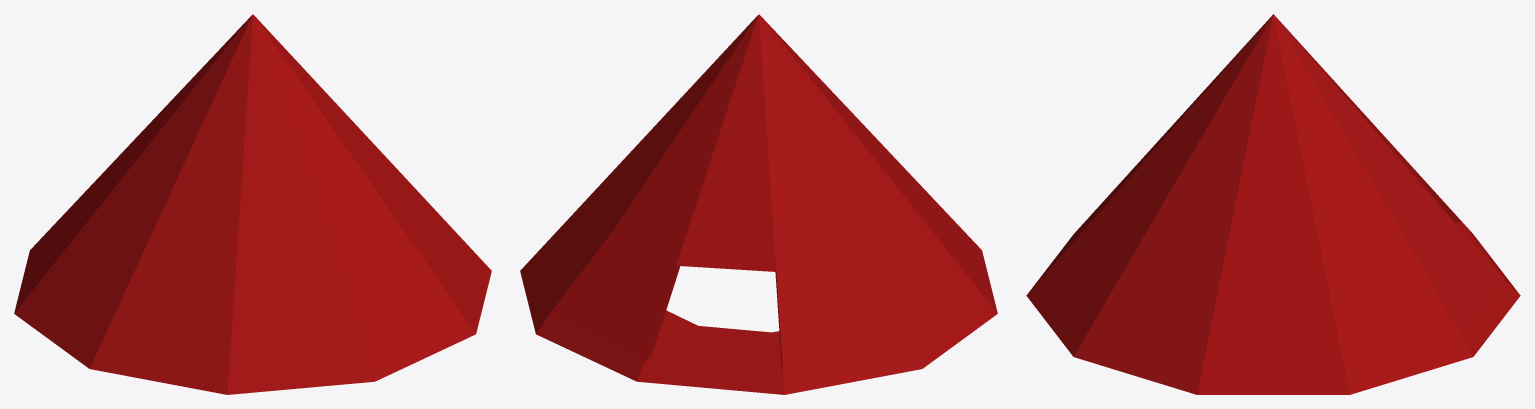
File: CeilingForTower.fbx
3 renders of one model, left to right at view 1: azimuth 30°, elevation 25°; view 2: azimuth 150°, elevation 25°; view 3: azimuth 270°, elevation 25°, orthographic.
Visible parts, largest first — view 1: Ceilling.001; view 2: Ceilling.001; view 3: Ceilling.001.
Boxes of the visible parts, <box> form: Ceilling.001: <box>14,14,491,394</box>; Ceilling.001: <box>520,14,997,394</box>; Ceilling.001: <box>1026,14,1520,394</box>.
Bounding box in the file's own units: 2515 × 1671 × 2645.
